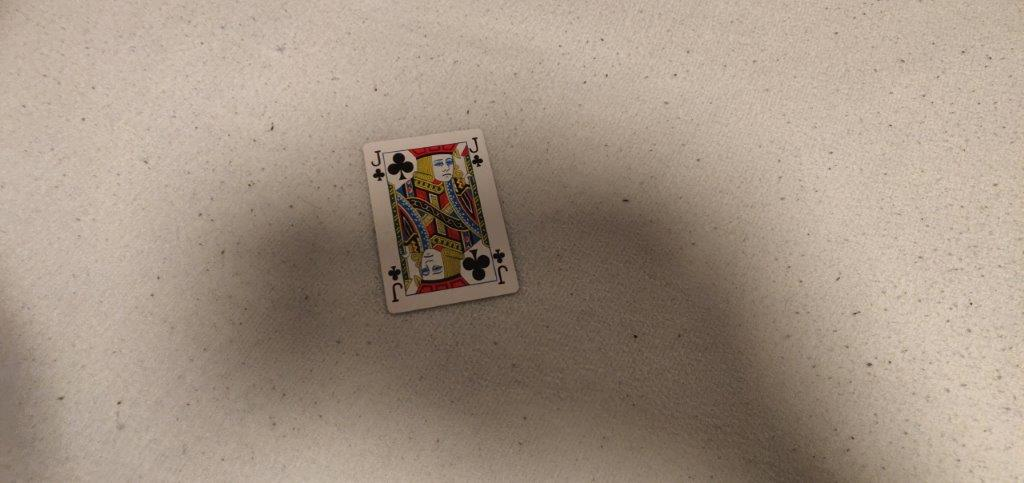JC: (365, 148, 388, 184), (466, 134, 488, 171)
